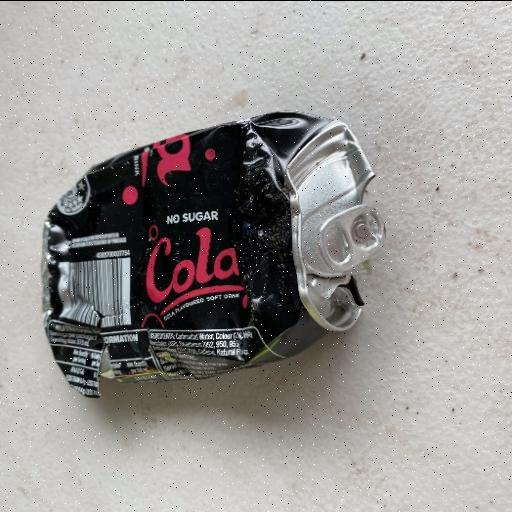Metal: (40, 108, 387, 400)
